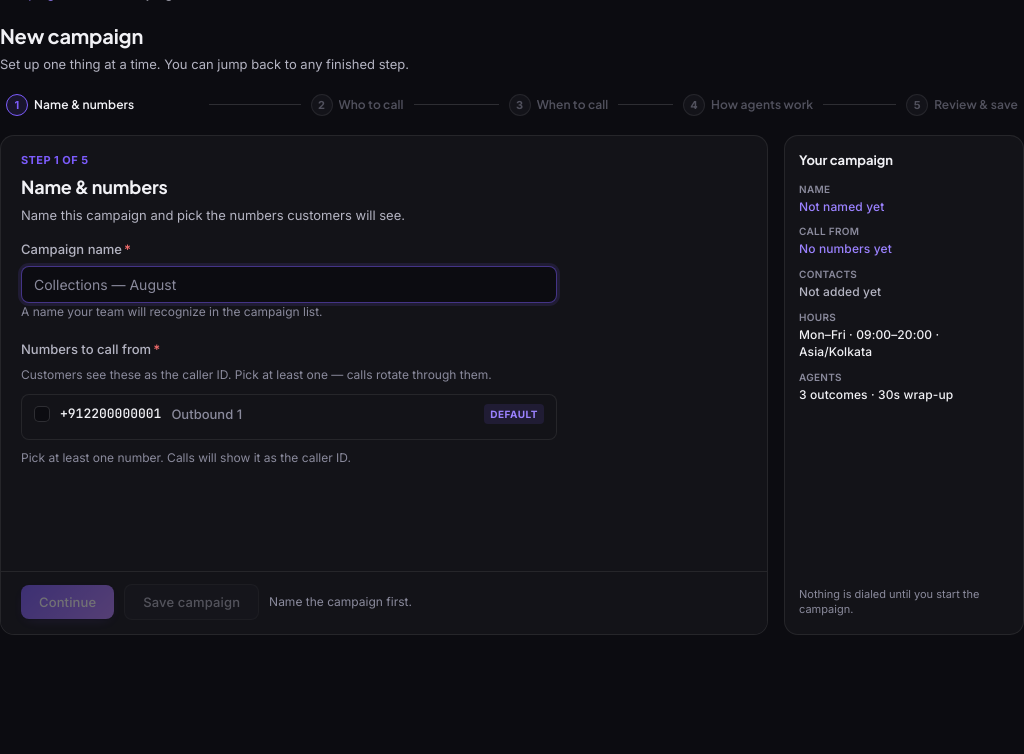
Scenario: the disposition catalog editor › renders the three built-ins with Remove disabled and the reason beside it
The image size is (1024, 754).
In the field labelled "Campaign name*": (289, 284) [21,266,557,303], type "Collections"
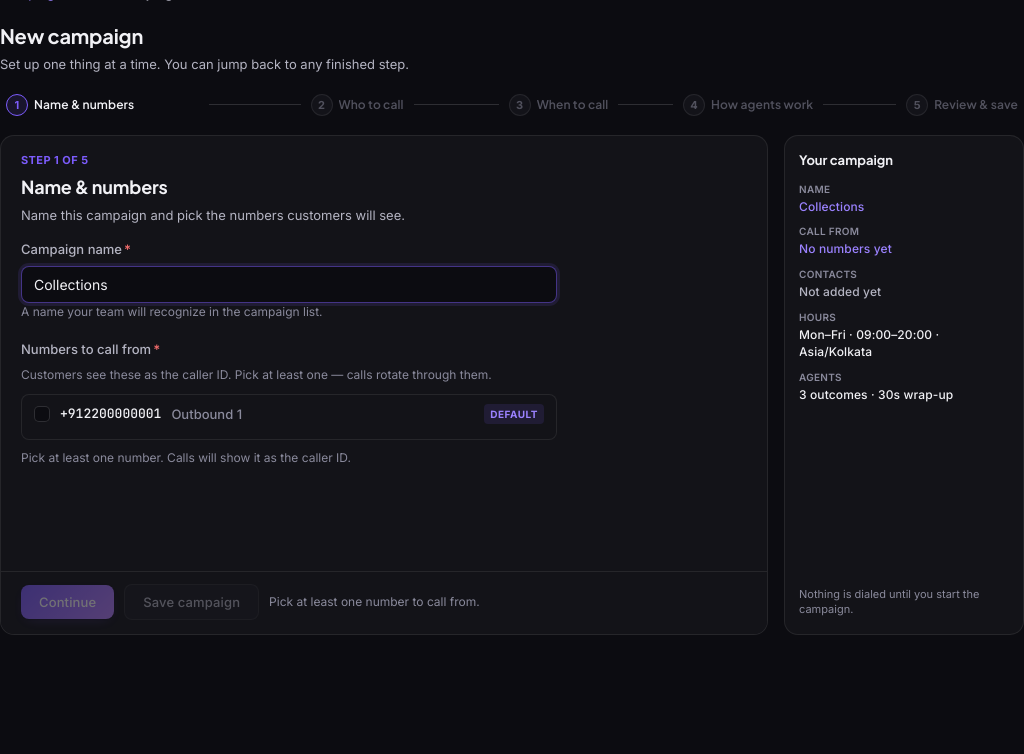
Click the checkbox labelled "+912200000001 Outbound 1 Default": (42, 414) [34,406,50,422]
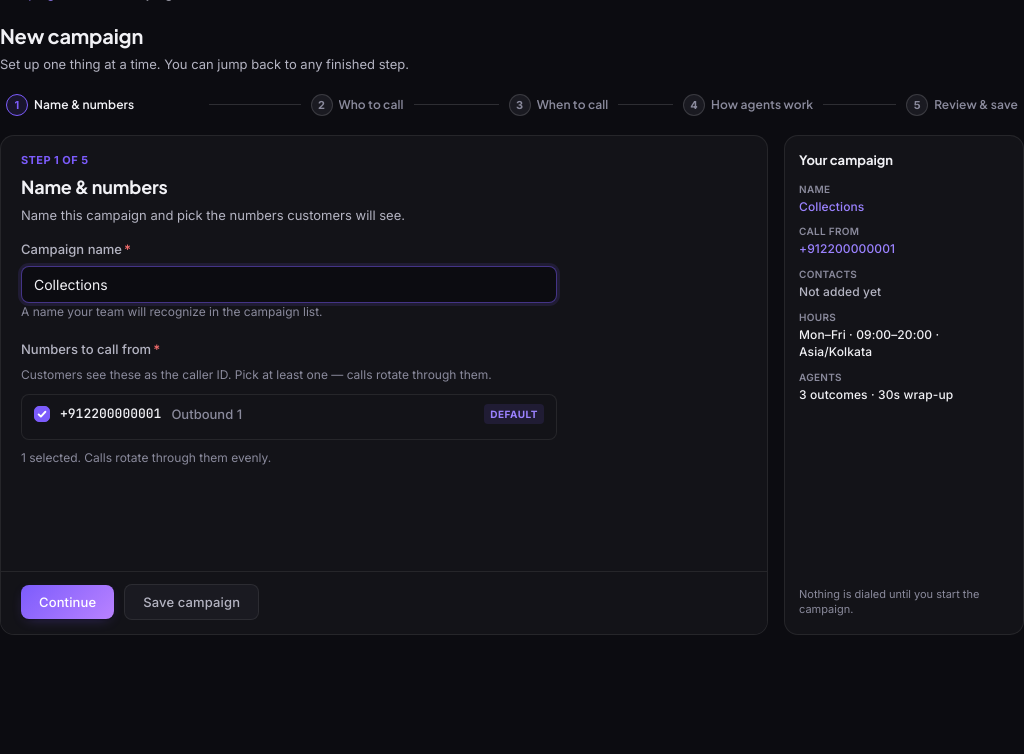
Click the button "4 How agents work": (748, 105) [677,89,819,121]
(page scrolled)
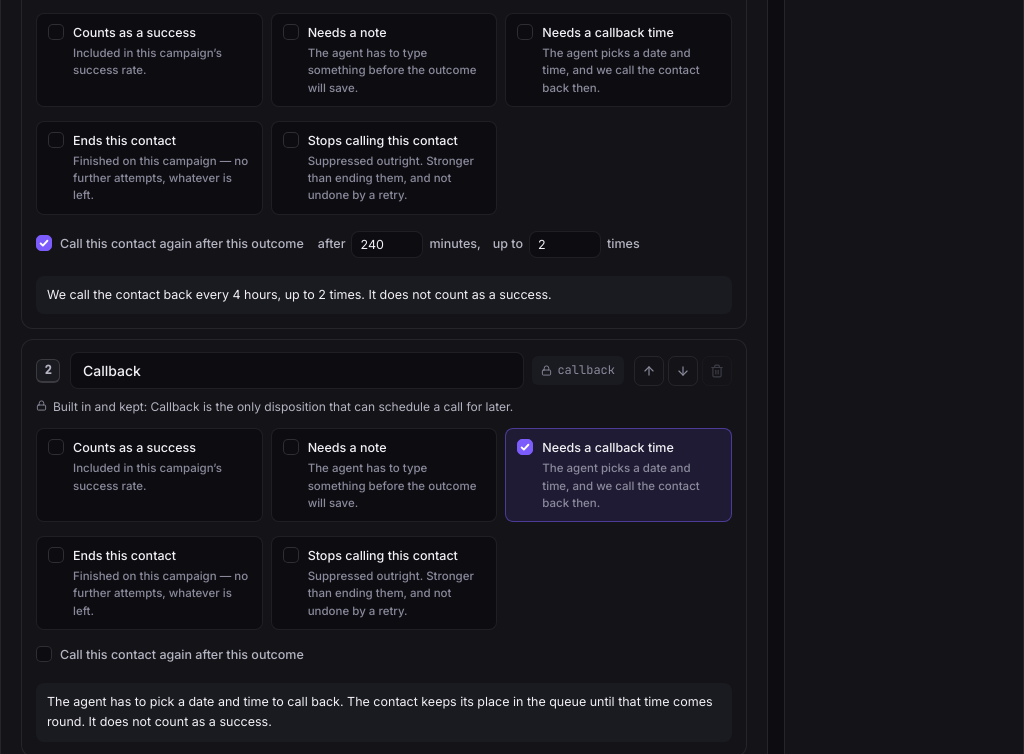
Expected: the element with test id "lock-callback" is shown, [36,399,513,414]
Expected: the element with test id "lock-callback" shows "schedule a call for later", [151,399,513,414]
Expected: the button named "Remove Callback" is disabled, [702,356,732,386]
